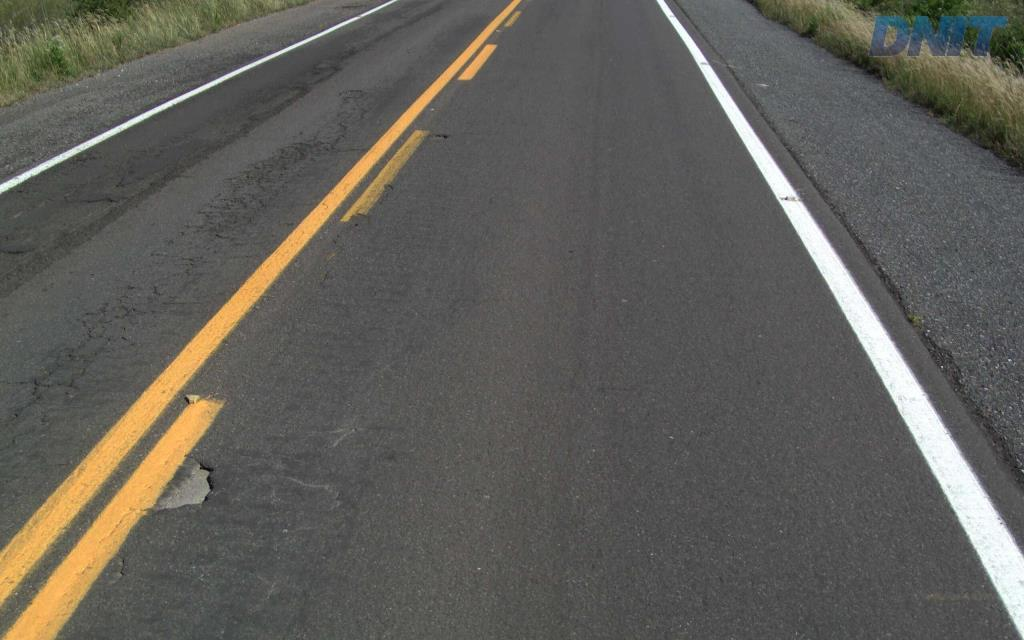pothole: (148, 456, 216, 516)
